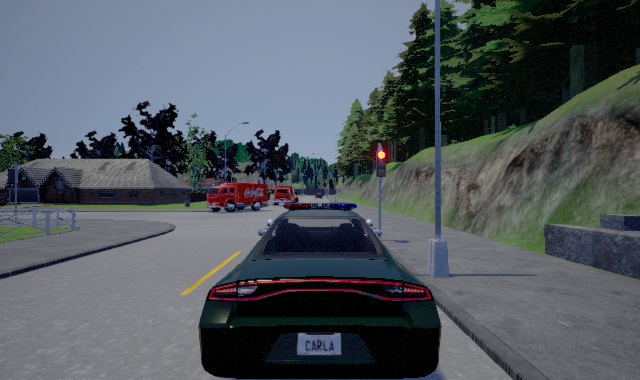traffic_light: (375, 148, 385, 179)
vehicle: (198, 201, 443, 379), (205, 182, 268, 212), (273, 185, 295, 206)
